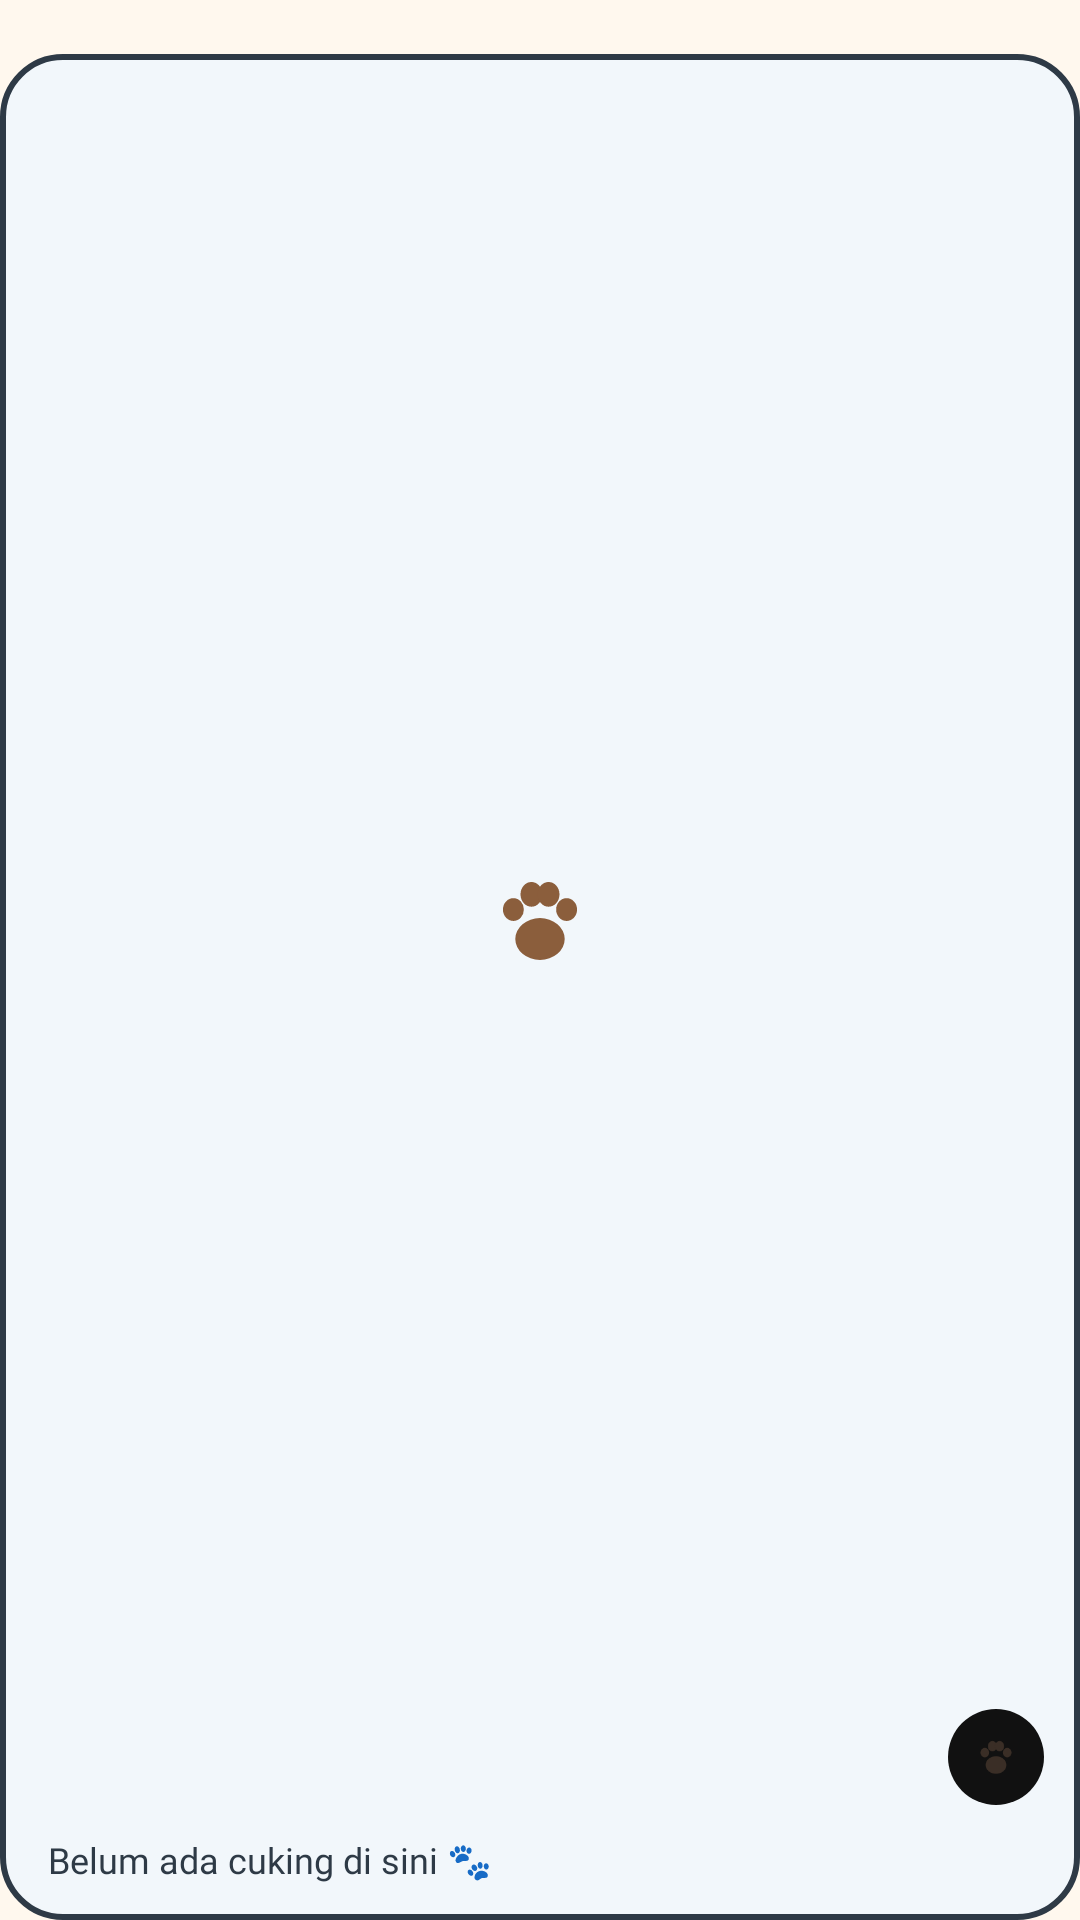

Where to tap for icons on this 1080x1920 app screen, as (x=x, y=y):
widget paw: (x=540, y=921)
widget paw ink: (x=996, y=1757)
